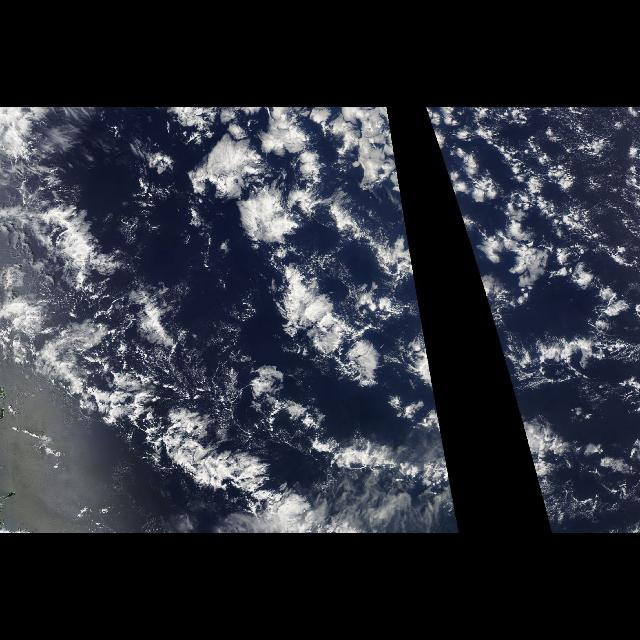Fish: (6, 110, 458, 516), (425, 110, 617, 516)
